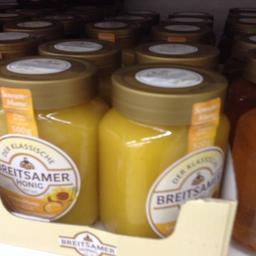honey: (97, 58, 232, 240), (0, 54, 105, 231)
